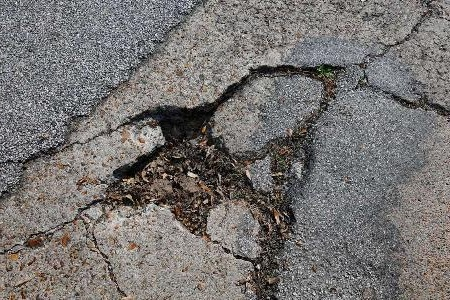pothole: (101, 60, 346, 270)
